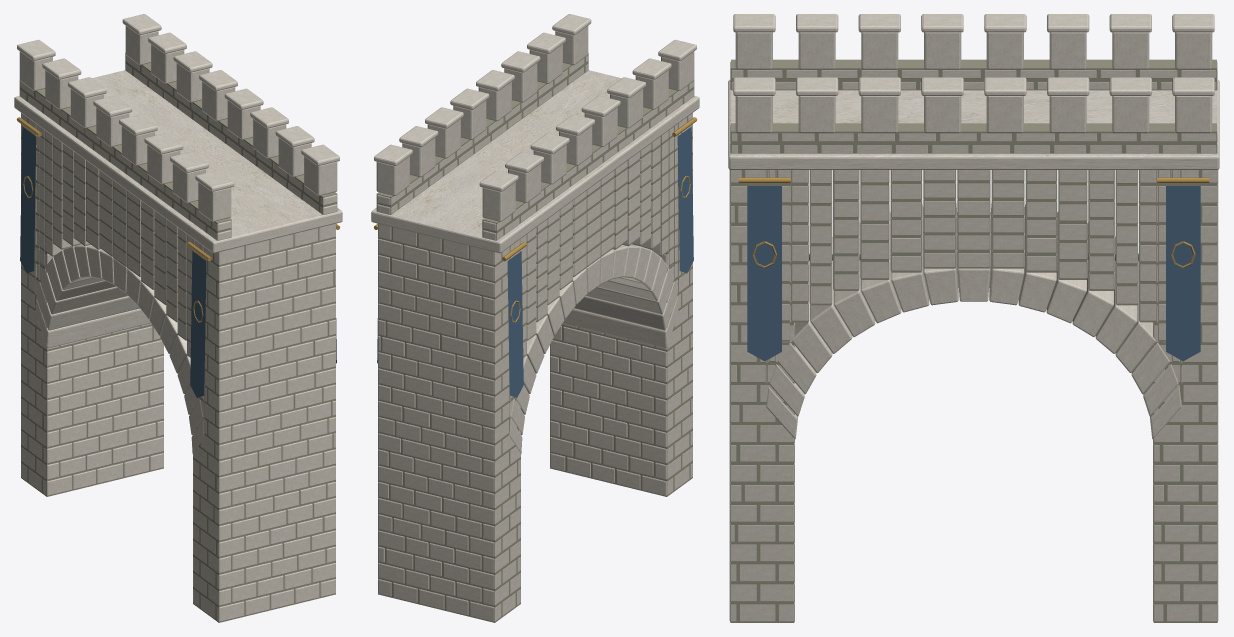
File: gatehouse.glb
3 renders of one model, left to right at view 1: azimuth 30°, elevation 25°; view 2: azimuth 150°, elevation 25°; view 3: azimuth 270°, elevation 25°, orthographic. The views are drawn at different scales.
Visible parts, largest first — view 1: Gate masonry piers, Gate masonry piers core, Gate tall battlements, Gate crown cornice, Gate upper carved courses, Carved arch voussoirs, Gate coping, Gate top parapets, Gate upper carved courses core, Aged blue gate banners, Gate top parapets core; view 2: Gate masonry piers, Gate masonry piers core, Gate tall battlements, Gate crown cornice, Gate upper carved courses, Carved arch voussoirs, Gate coping, Gate top parapets, Gate upper carved courses core, Aged blue gate banners, Gate top parapets core; view 3: Gate upper carved courses, Gate masonry piers, Gate tall battlements, Carved arch voussoirs, Gate crown cornice, Gate coping, Gate top parapets, Gate upper carved courses core, Aged blue gate banners, Gate masonry piers core, Gate top parapets core.
Part boxes in pixels (x1,y1,x2,y2): Gate masonry piers: [21, 113, 335, 621]; Gate masonry piers core: [21, 117, 335, 622]; Gate tall battlements: [19, 26, 337, 221]; Gate crown cornice: [14, 70, 342, 253]; Gate upper carved courses: [35, 123, 204, 417]; Carved arch voussoirs: [35, 244, 204, 453]; Gate coping: [17, 14, 339, 191]; Gate top parapets: [20, 55, 336, 240]; Gate upper carved courses core: [35, 123, 204, 418]; Aged blue gate banners: [20, 126, 336, 397]; Gate top parapets core: [19, 53, 337, 240]; Gate masonry piers: [378, 113, 692, 621]; Gate masonry piers core: [378, 116, 692, 622]; Gate tall battlements: [376, 26, 694, 221]; Gate crown cornice: [371, 70, 699, 253]; Gate upper carved courses: [509, 123, 678, 417]; Carved arch voussoirs: [509, 244, 678, 453]; Gate coping: [374, 14, 696, 191]; Gate top parapets: [377, 55, 693, 240]; Gate upper carved courses core: [509, 123, 678, 418]; Aged blue gate banners: [377, 126, 693, 397]; Gate top parapets core: [376, 53, 694, 240]; Gate upper carved courses: [765, 170, 1182, 383]; Gate masonry piers: [729, 170, 1218, 621]; Gate tall battlements: [735, 32, 1212, 133]; Carved arch voussoirs: [766, 203, 1181, 439]; Gate crown cornice: [728, 79, 1219, 169]; Gate coping: [733, 14, 1214, 95]; Gate top parapets: [730, 61, 1217, 153]; Gate upper carved courses core: [766, 170, 1181, 384]; Aged blue gate banners: [747, 186, 1200, 361]; Gate masonry piers core: [730, 170, 1217, 622]; Gate top parapets core: [731, 59, 1216, 153].
Size of the model in its own units: 2.19 by 6.84 by 5.68.
Materials: 6 (2 with a texture image).
